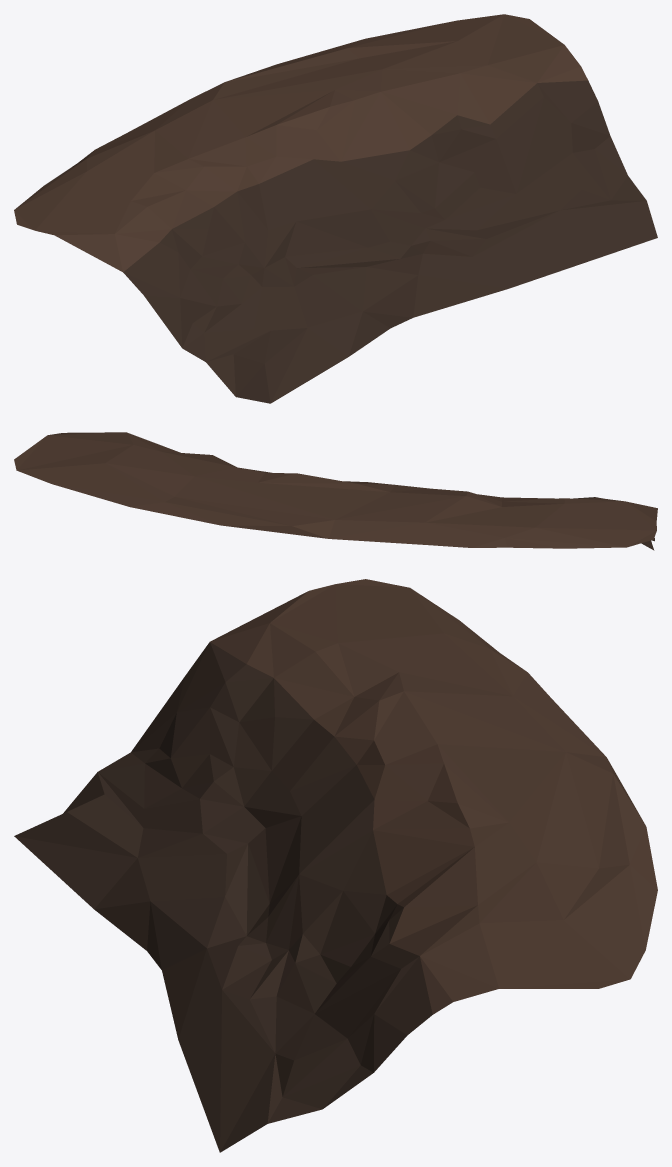
3 views of the same model, one above another, from view 1: azimuth 30°, elevation 25°; view 2: azimuth 150°, elevation 25°; view 3: azimuth 270°, elevation 25° (orthographic). The views are drawn at different scales.
Visible parts, largest first — view 1: SM_Terrain_RiverSide_Corner_01; view 2: SM_Terrain_RiverSide_Corner_01; view 3: SM_Terrain_RiverSide_Corner_01.
Boxes of the visible parts, <box> form: SM_Terrain_RiverSide_Corner_01: <box>14,14,657,403</box>; SM_Terrain_RiverSide_Corner_01: <box>14,432,657,550</box>; SM_Terrain_RiverSide_Corner_01: <box>14,579,657,1152</box>.
Size of the model in its own units: 9.13 by 1.9 by 6.05.
Materials: 1 (1 with a texture image).
